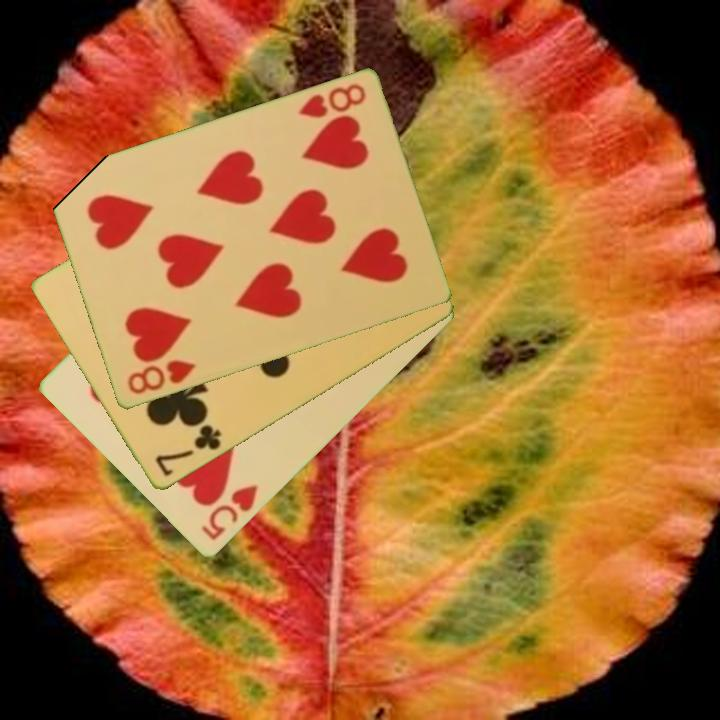5h: (198, 481, 261, 544)
7c: (151, 421, 224, 480)
8h: (123, 357, 199, 398), (295, 80, 369, 122)
